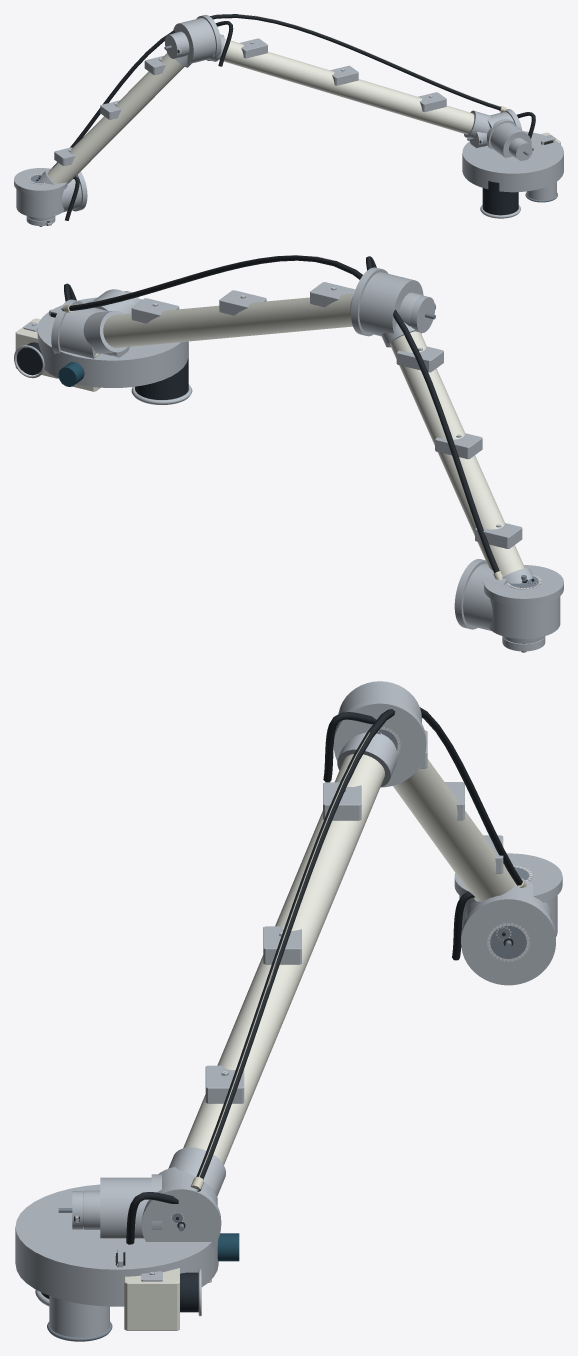
File: mer-arm.glb
3 renders of one model, top to bottom at view 1: azimuth 30°, elevation 25°; view 2: azimuth 150°, elevation 25°; view 3: azimuth 270°, elevation 25°, orthographic. The views are drawn at different scales.
Visible parts, largest first — view 1: ARM_LINKS_White_thermal_coating, TOOL_Machined_aluminium, ARM_LINKS_Machined_aluminium, HARNESS_PATH_Cable_insulation, JOINT_0_Machined_aluminium, JOINT_2_Machined_aluminium, JOINT_4_Machined_aluminium, RAT_Anodized_aluminium, ARM_HARNESS_Cable_insulation, JOINT_1_Machined_aluminium, APXS_HEAD_Machined_aluminium, HARNESS_PATH_White_cable_sleeve (+3 smaller); view 2: ARM_LINKS_White_thermal_coating, ARM_LINKS_Machined_aluminium, TOOL_Machined_aluminium, JOINT_0_Machined_aluminium, HARNESS_PATH_Cable_insulation, JOINT_2_Machined_aluminium, JOINT_1_Machined_aluminium, JOINT_3_Machined_aluminium, RAT_Anodized_aluminium, JOINT_2_ACTUATOR_ROTOR_Machined_aluminium, MOSSBAUER_HEAD_Anodized_aluminium, JOINT_4_Machined_aluminium (+1 smaller); view 3: ARM_LINKS_White_thermal_coating, TOOL_Machined_aluminium, ARM_LINKS_Machined_aluminium, JOINT_1_Machined_aluminium, HARNESS_PATH_Cable_insulation, JOINT_2_Machined_aluminium, JOINT_3_Machined_aluminium, MOSSBAUER_HEAD_White_thermal_coating, JOINT_4_Machined_aluminium, ARM_HARNESS_Cable_insulation, JOINT_0_Machined_aluminium, APXS_HEAD_Machined_aluminium (+3 smaller).
Boxes of the visible parts, <box> form: ARM_LINKS_White_thermal_coating: <box>47,39,474,183</box>; TOOL_Machined_aluminium: <box>462,131,563,192</box>; ARM_LINKS_Machined_aluminium: <box>40,34,490,184</box>; HARNESS_PATH_Cable_insulation: <box>52,14,500,167</box>; JOINT_0_Machined_aluminium: <box>14,168,67,217</box>; JOINT_2_Machined_aluminium: <box>173,14,221,64</box>; JOINT_4_Machined_aluminium: <box>487,119,531,157</box>; RAT_Anodized_aluminium: <box>482,181,518,215</box>; ARM_HARNESS_Cable_insulation: <box>65,21,535,220</box>; JOINT_1_Machined_aluminium: <box>61,171,87,212</box>; APXS_HEAD_Machined_aluminium: <box>526,182,556,200</box>; HARNESS_PATH_White_cable_sleeve: <box>49,14,506,171</box>; ARM_LINKS_White_thermal_coating: <box>103,293,524,574</box>; ARM_LINKS_Machined_aluminium: <box>83,282,532,583</box>; TOOL_Machined_aluminium: <box>37,297,188,387</box>; JOINT_0_Machined_aluminium: <box>483,565,563,638</box>; HARNESS_PATH_Cable_insulation: <box>69,255,499,573</box>; JOINT_2_Machined_aluminium: <box>351,267,423,336</box>; JOINT_1_Machined_aluminium: <box>454,559,507,630</box>; JOINT_3_Machined_aluminium: <box>51,299,108,358</box>; RAT_Anodized_aluminium: <box>135,342,188,399</box>; JOINT_2_ACTUATOR_ROTOR_Machined_aluminium: <box>410,295,435,332</box>; MOSSBAUER_HEAD_Anodized_aluminium: <box>17,342,42,375</box>; JOINT_4_Machined_aluminium: <box>86,289,136,314</box>; ARM_LINKS_White_thermal_coating: <box>183,754,514,1164</box>; TOOL_Machined_aluminium: <box>15,1184,218,1306</box>; ARM_LINKS_Machined_aluminium: <box>168,730,520,1196</box>; JOINT_1_Machined_aluminium: <box>461,880,555,985</box>; HARNESS_PATH_Cable_insulation: <box>196,707,522,1179</box>; JOINT_2_Machined_aluminium: <box>333,681,426,787</box>; JOINT_3_Machined_aluminium: <box>141,1167,221,1247</box>; MOSSBAUER_HEAD_White_thermal_coating: <box>124,1268,179,1330</box>; JOINT_4_Machined_aluminium: <box>100,1174,161,1238</box>; ARM_HARNESS_Cable_insulation: <box>126,712,474,1244</box>; JOINT_0_Machined_aluminium: <box>454,853,562,936</box>; APXS_HEAD_Machined_aluminium: <box>49,1296,109,1337</box>.
Bounding box in the file's own units: 0.8859 × 0.3776 × 0.4682.
